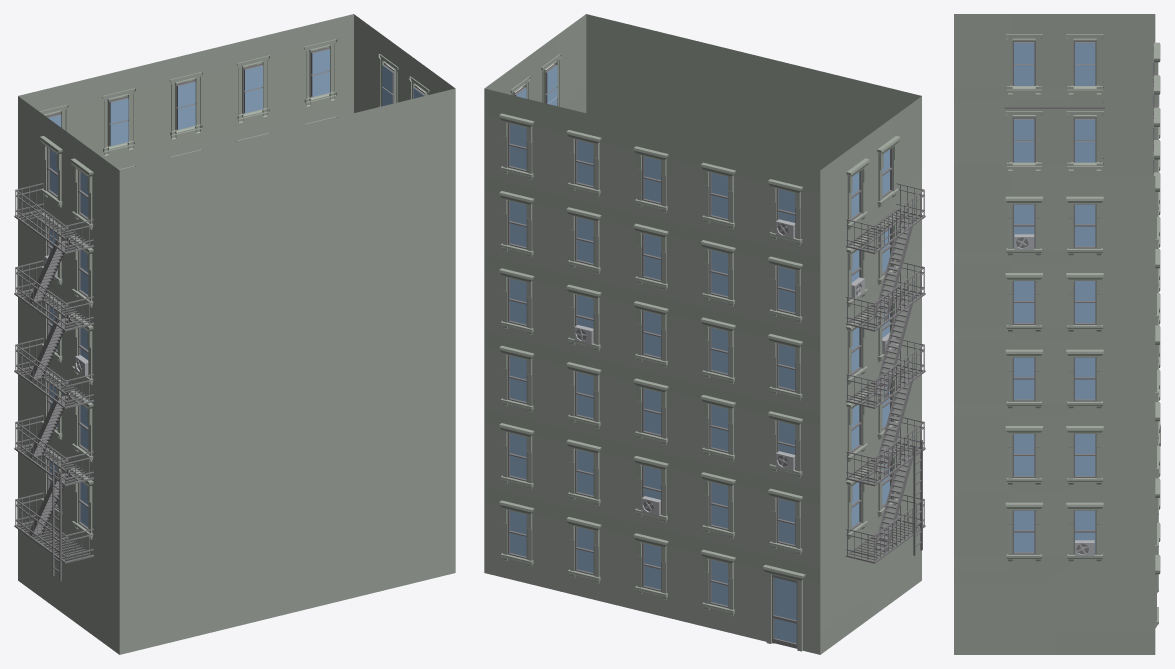
Rendered from cityscene2_26.gltf.
3 views of the same model, side by side, from view 1: azimuth 30°, elevation 25°; view 2: azimuth 150°, elevation 25°; view 3: azimuth 270°, elevation 25° (orthographic).
Visible parts, largest first — view 1: cityscene2_26; view 2: cityscene2_26; view 3: cityscene2_26.
Boxes of the visible parts, x1,y1,x2,y2 form: cityscene2_26: [14, 14, 455, 654]; cityscene2_26: [484, 14, 925, 654]; cityscene2_26: [954, 14, 1160, 654].
Bounding box in the file's own units: 8.91 × 11.13 × 4.36.
